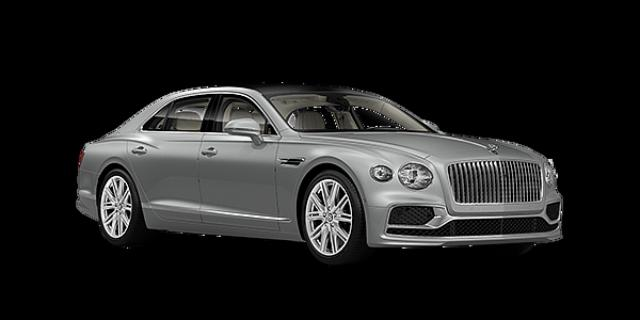bentley: (75, 82, 563, 264)
